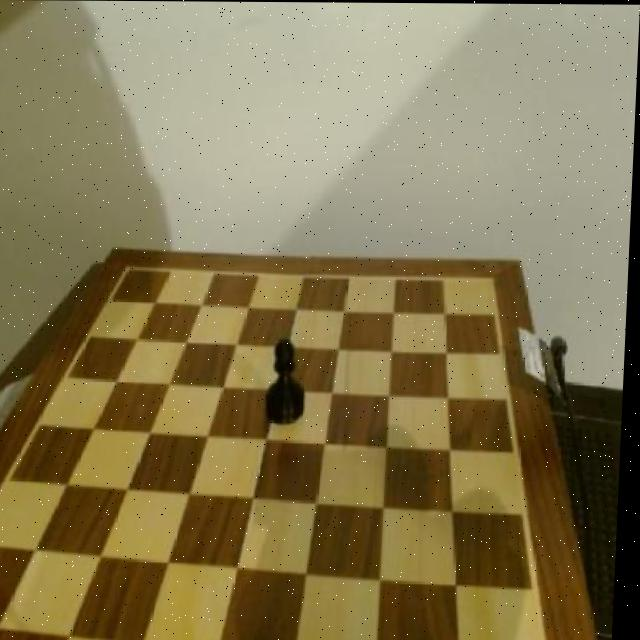black-knight: (264, 334, 314, 423)
